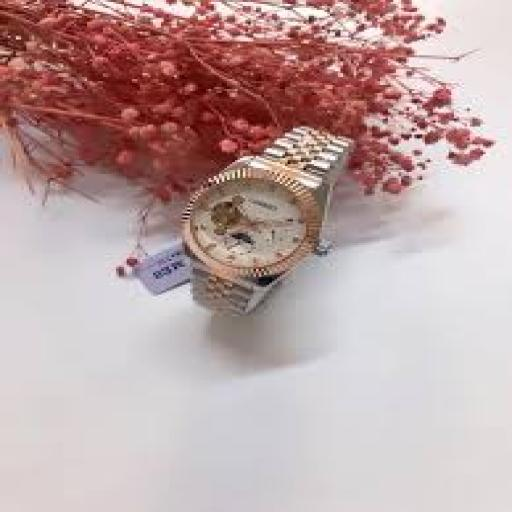KolSaati: (129, 88, 406, 362)
